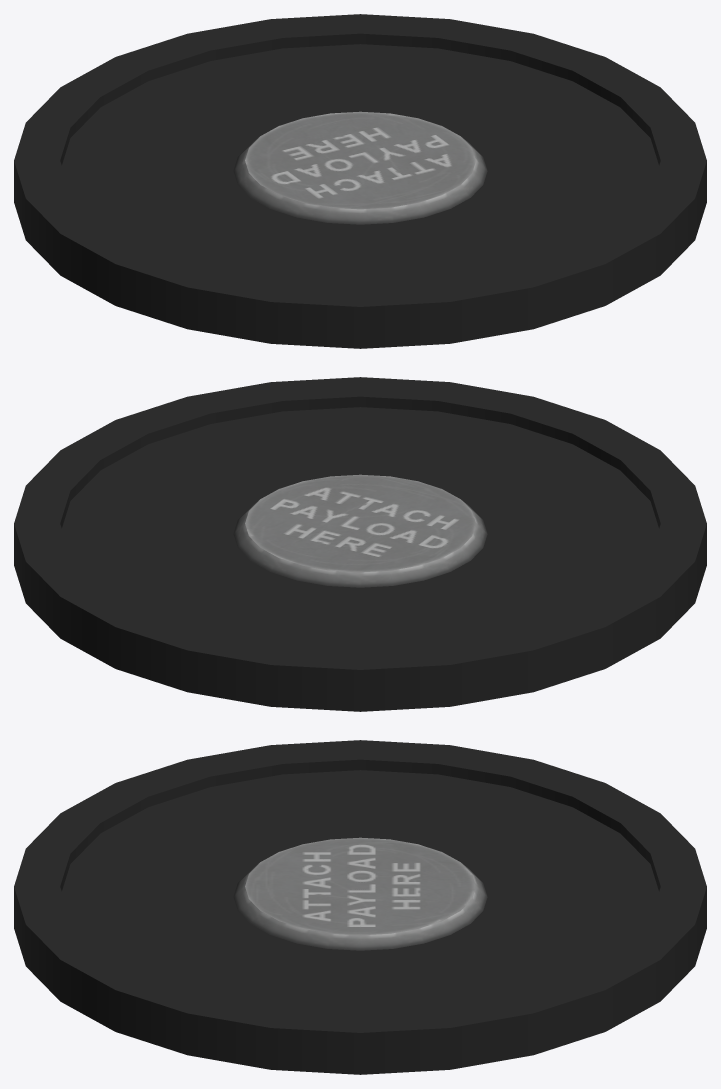
Rendered from canopus_fairing_s1p5_1.obj.
The picture shows the model from 3 angles, top to bottom: view 1: azimuth 30°, elevation 25°; view 2: azimuth 150°, elevation 25°; view 3: azimuth 270°, elevation 25°; orthographic projection.
Parts seen in each view (by area): view 1: canopus_fairing_s1_1; view 2: canopus_fairing_s1_1; view 3: canopus_fairing_s1_1.
Boxes of the visible parts, x1,y1,x2,y2 form: canopus_fairing_s1_1: (14, 14, 706, 348); canopus_fairing_s1_1: (14, 377, 706, 711); canopus_fairing_s1_1: (14, 740, 706, 1074).
Bounding box in the file's own units: 1.88 × 0.125 × 1.88.
